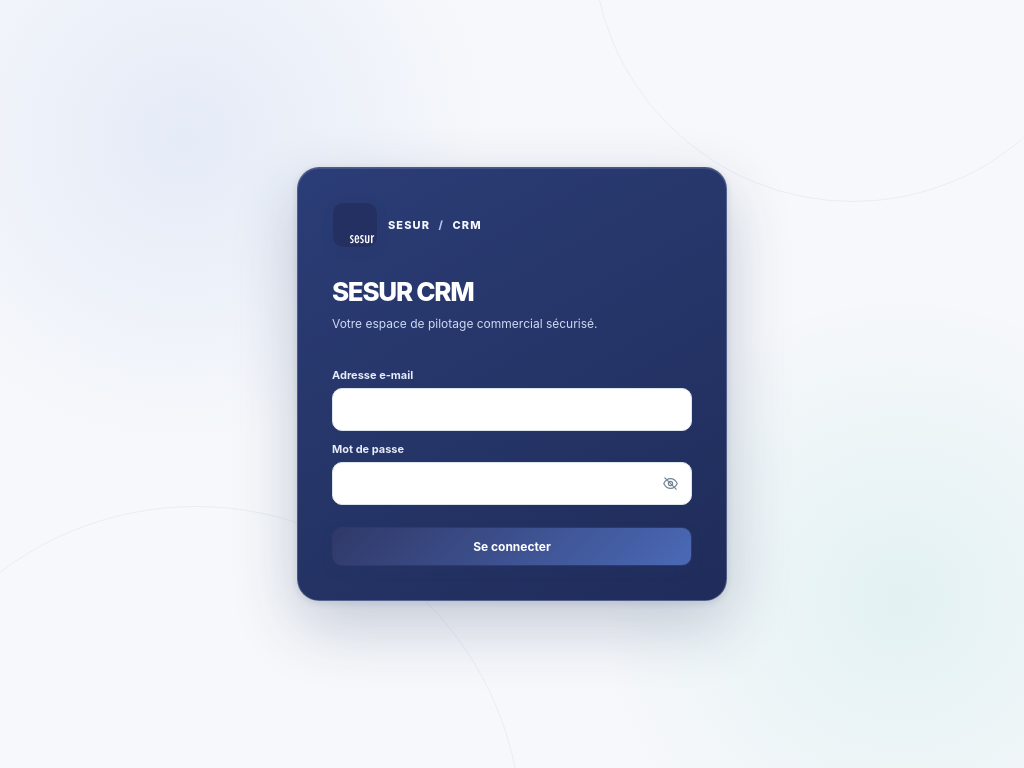
Scenario: Connexion › distingue une erreur interne de l’API d’une API arrêtée derrière le proxy
Type "awa.kone@sesur.bj" into the field labelled "Adresse e-mail" at point(512, 410), box [332, 388, 692, 431]
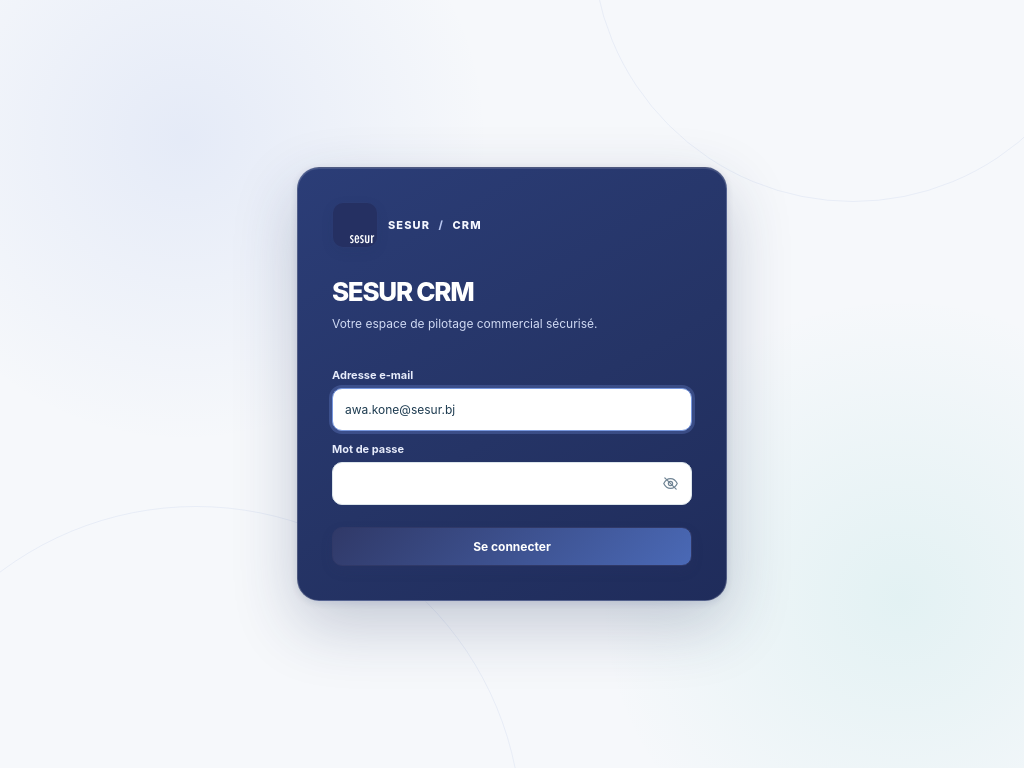
Type "une phrase de passe solide" into the password field labelled "Mot de passe" at point(512, 484), box [332, 462, 692, 505]
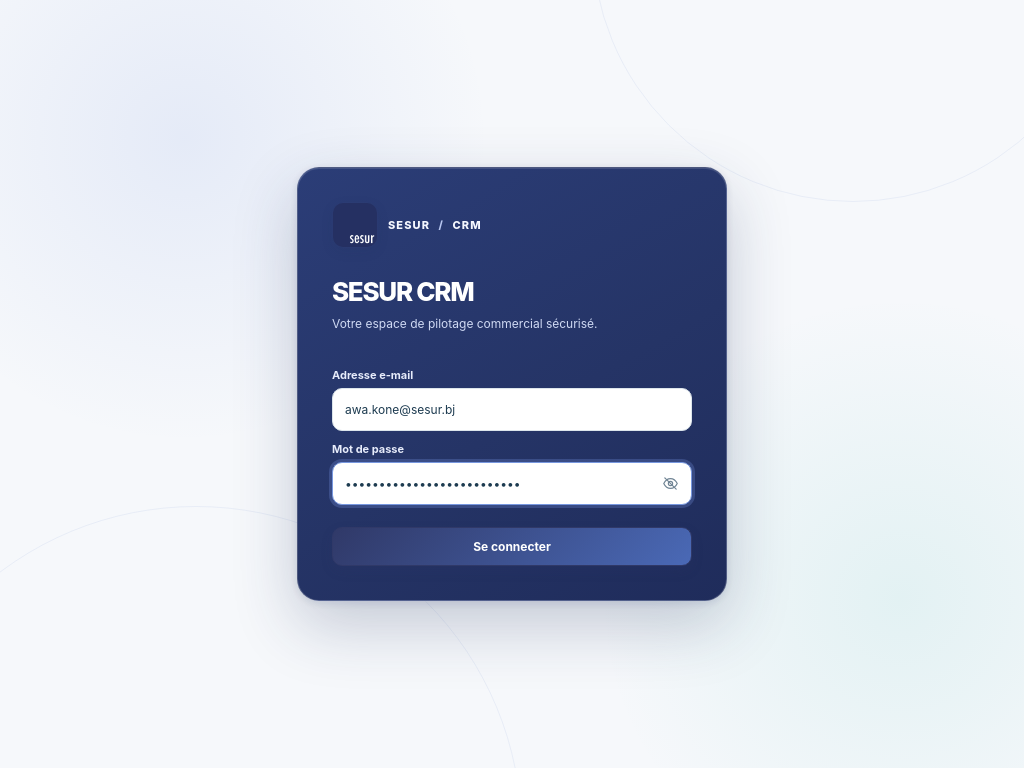
Click the button "Se connecter" at point(512, 547), box [332, 527, 692, 566]
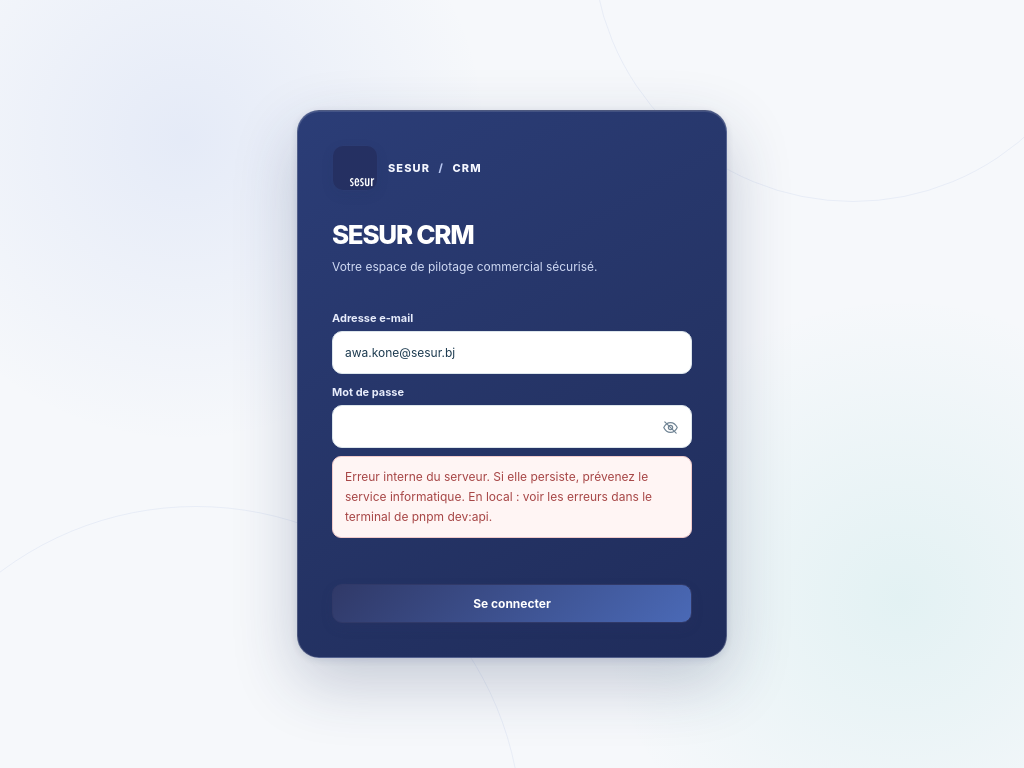
Result: the message shows "Erreur interne du serveur" at [345, 469, 652, 524]
Type "une phrase de passe solide" into the password field labelled "Mot de passe" at point(512, 428), box [332, 406, 692, 449]
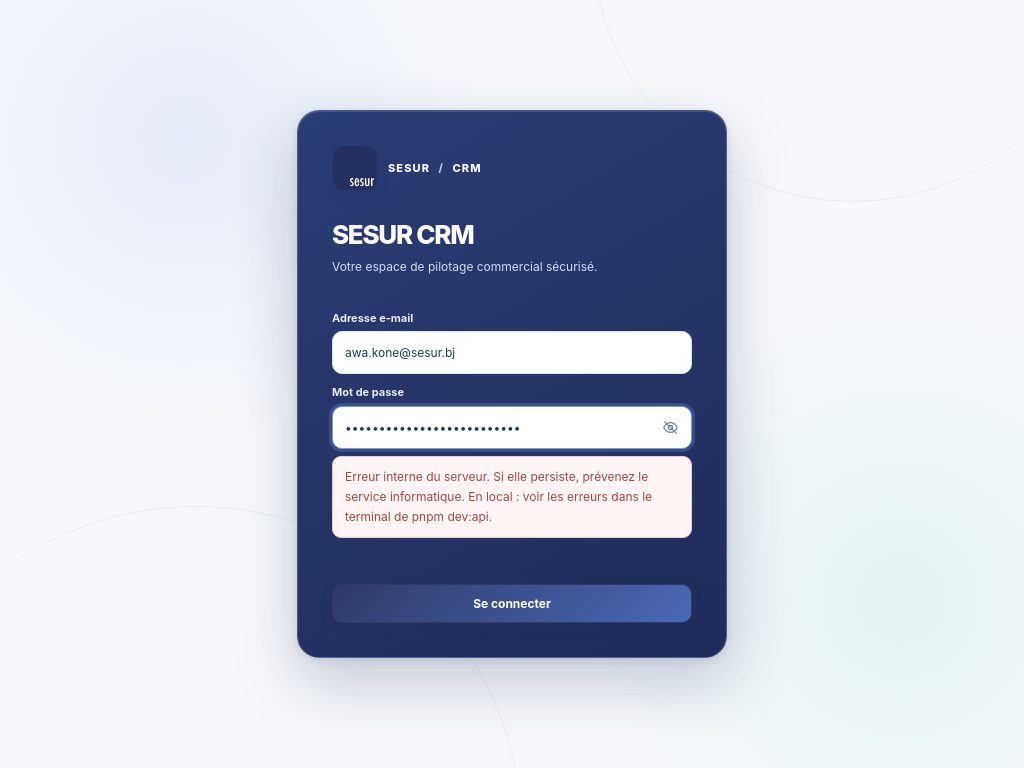
Click the button "Se connecter" at point(512, 603), box [332, 584, 692, 623]
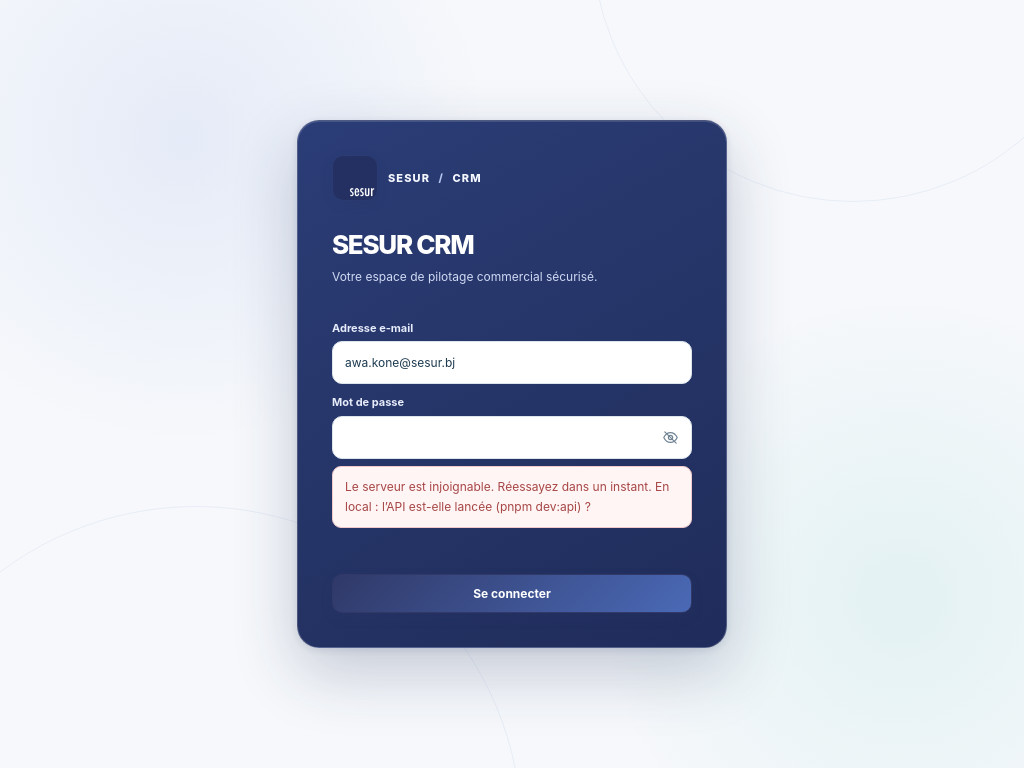
Result: the message shows "serveur est injoignable" at [345, 479, 669, 514]
